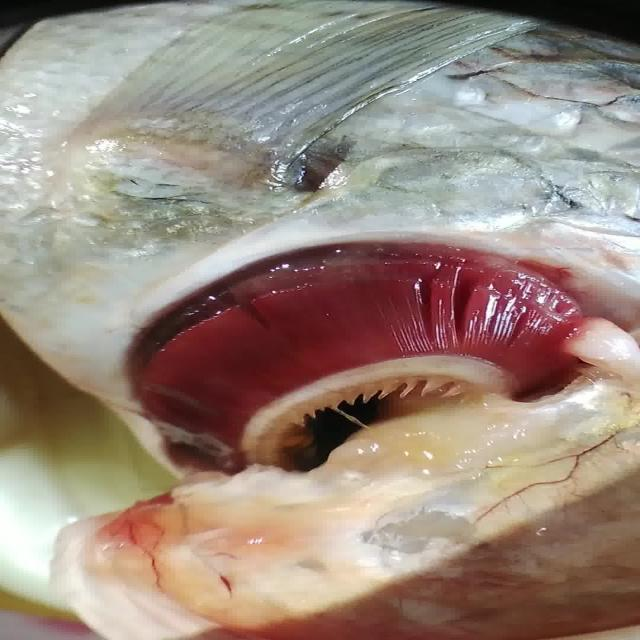Fresh: (79, 238, 639, 441)
